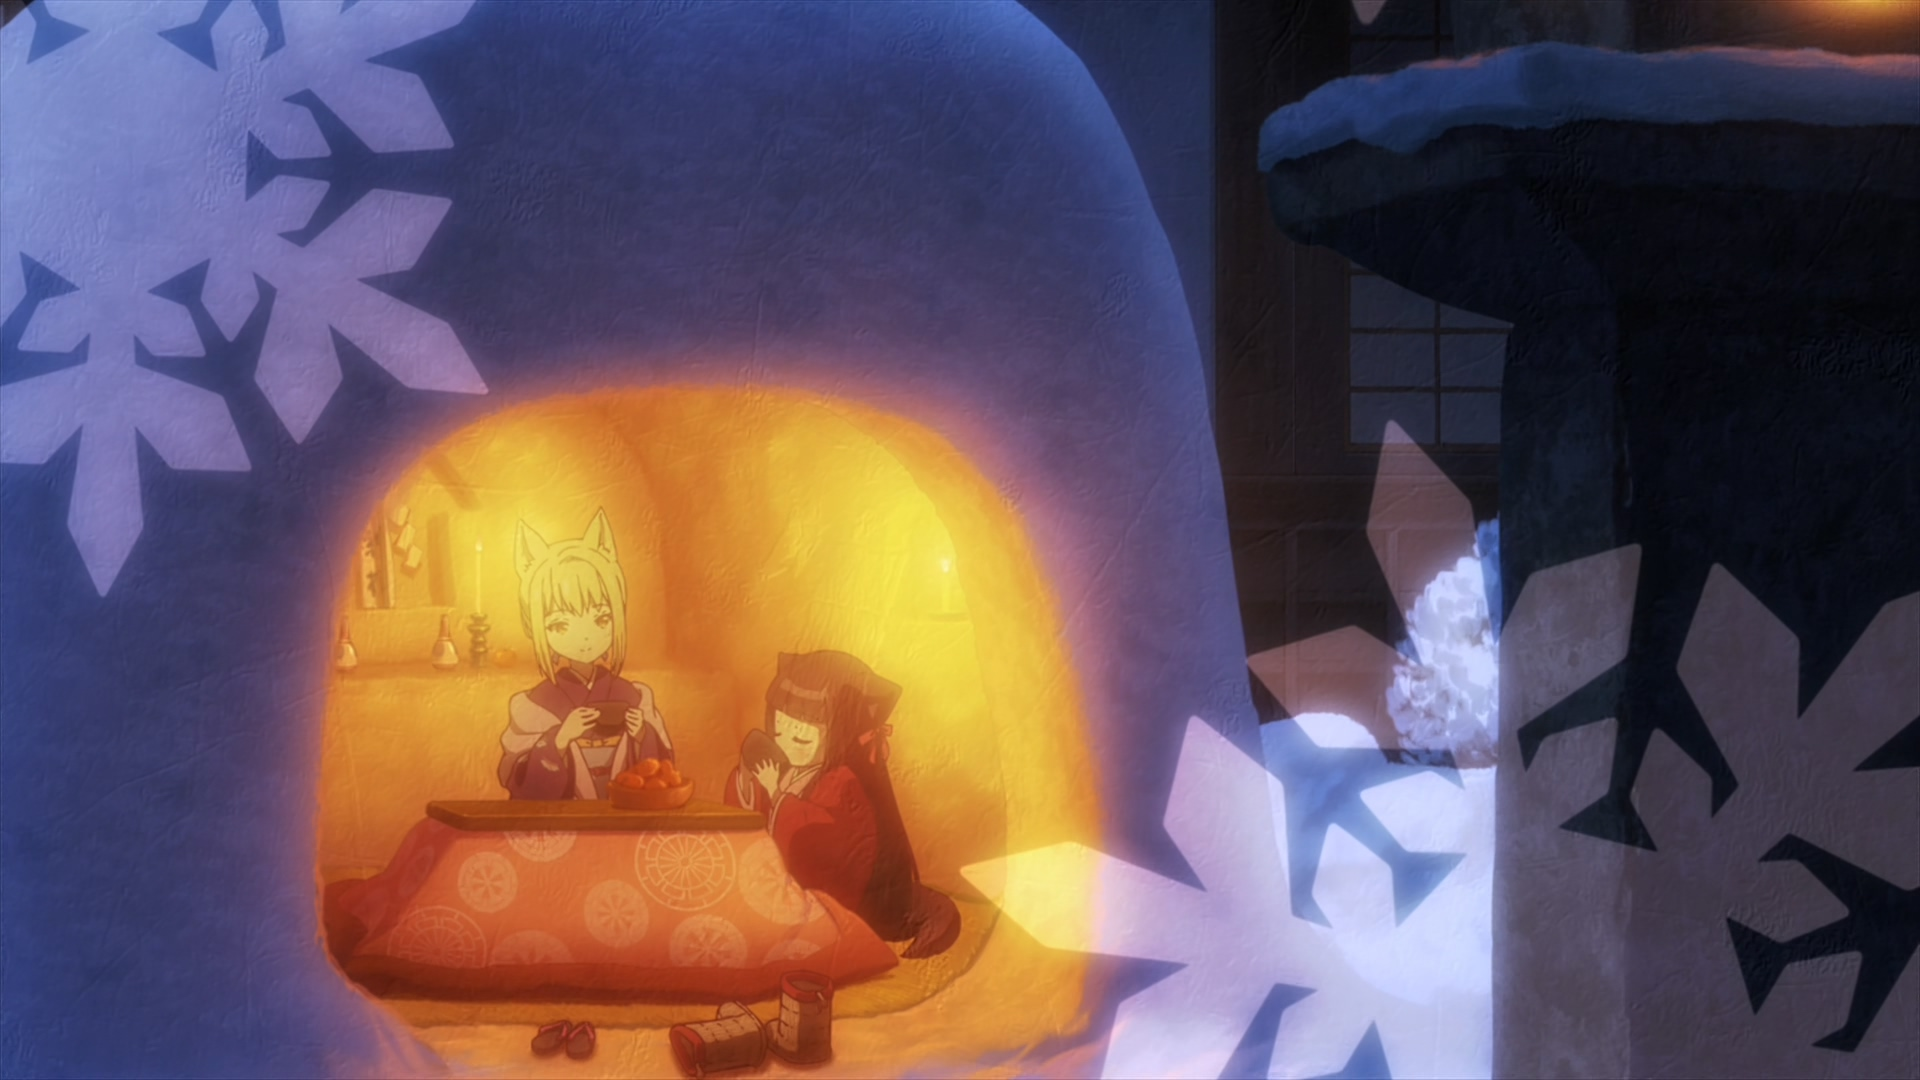桐: (498, 508, 676, 802)
樱: (723, 649, 960, 961)
